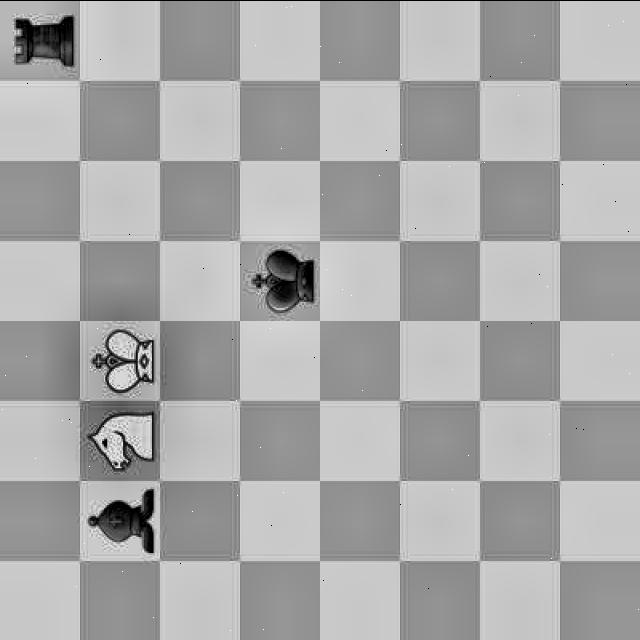black bishop: (82, 481, 160, 560)
black rook: (240, 238, 318, 316), (0, 3, 78, 78)
white king: (83, 327, 161, 397)
whiteknight: (82, 401, 158, 478)
